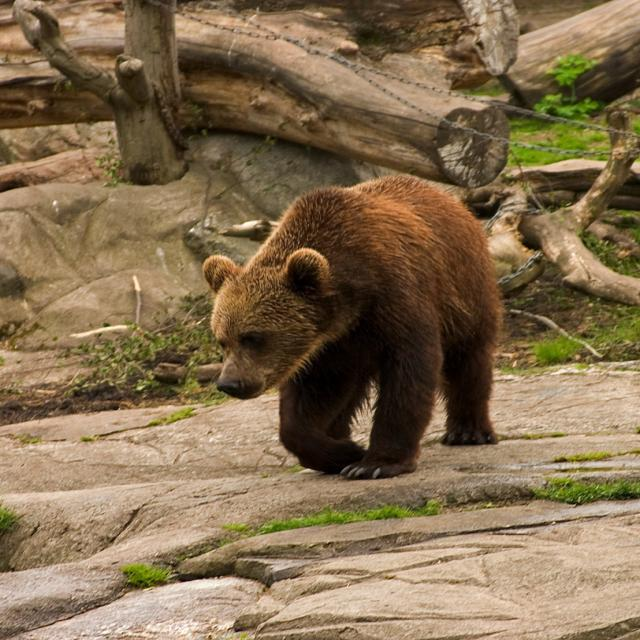Cheetahs: (201, 172, 499, 480)
